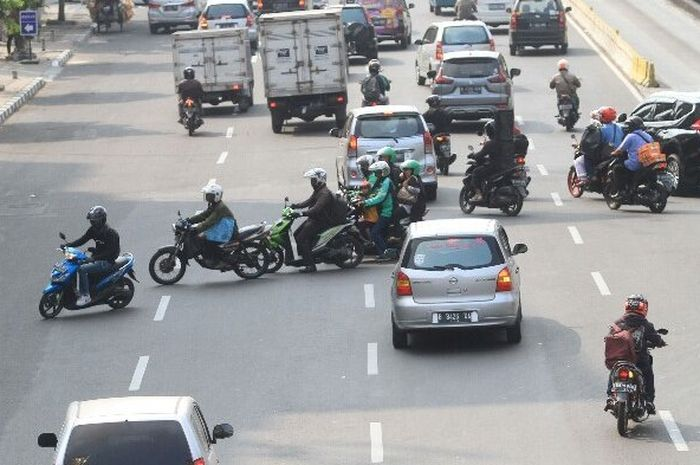car: (392, 216, 526, 356), (255, 9, 350, 132), (339, 107, 440, 206), (616, 95, 700, 195), (169, 28, 252, 117), (432, 52, 522, 132), (415, 21, 499, 88), (322, 4, 379, 68), (196, 1, 260, 57), (509, 1, 568, 57), (347, 1, 413, 49), (146, 1, 202, 33), (474, 1, 513, 38)
motorbike: (152, 186, 265, 283), (41, 206, 134, 318), (269, 171, 363, 270), (606, 296, 667, 438), (344, 165, 421, 257), (462, 121, 530, 217), (608, 123, 672, 214), (570, 112, 622, 203), (422, 96, 455, 172), (552, 61, 582, 130), (361, 61, 389, 114)
